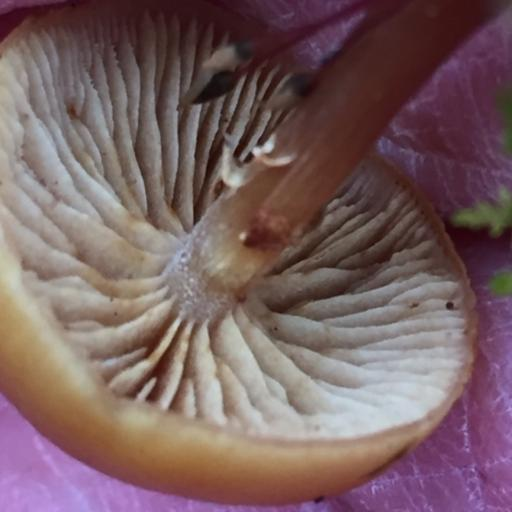mushroom: (4, 5, 481, 506)
